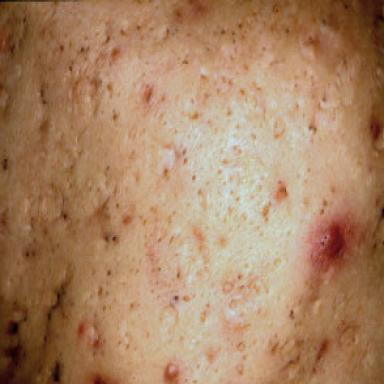acne: (311, 221, 351, 268), (164, 363, 179, 383), (275, 181, 288, 203)
